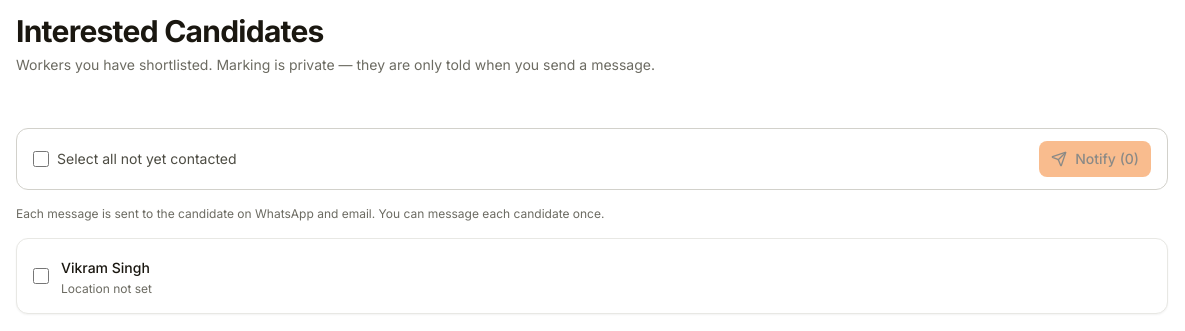
Test: Interested Candidates page › lists a marked candidate and notifies them, then shows Contacted
What coordinates should you click on to do the following:
click the checkbox named "Select Vikram Singh"
I would click on:
 (41, 276)
Its box is [33,268,49,284].
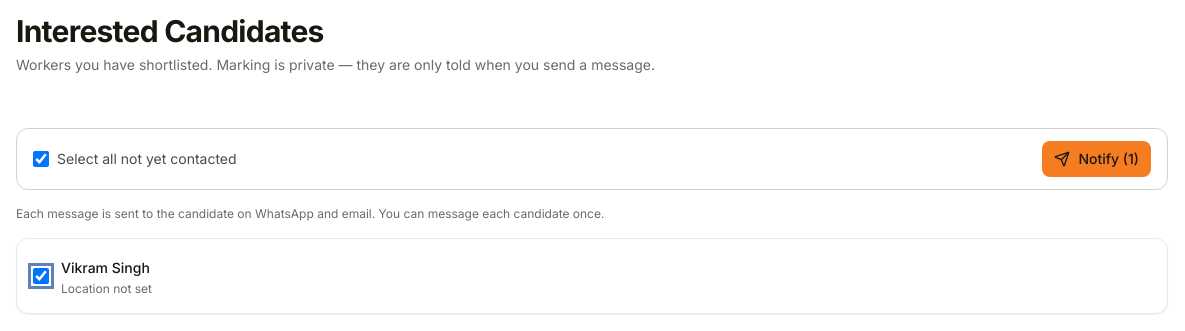
What coordinates should you click on to do the following:
click the button "Notify (1)"
I would click on:
 (1097, 159)
Its box is [1042,141,1151,177].
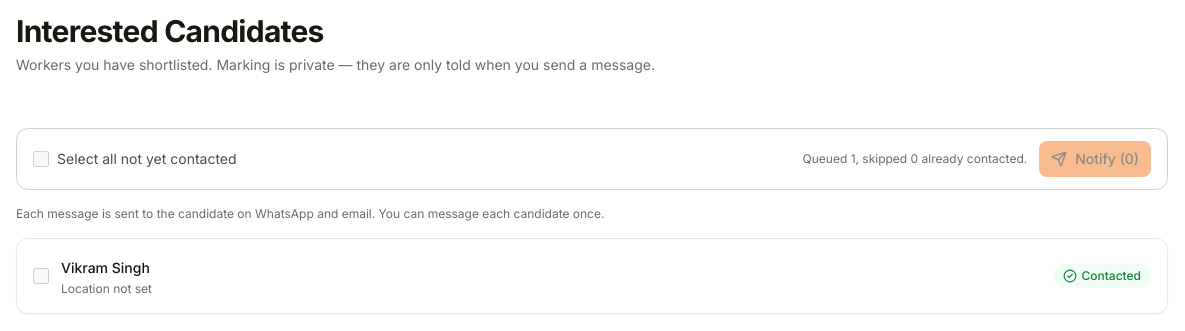
Check: the text "Contacted" is shown, box [1053,264,1151,288]
